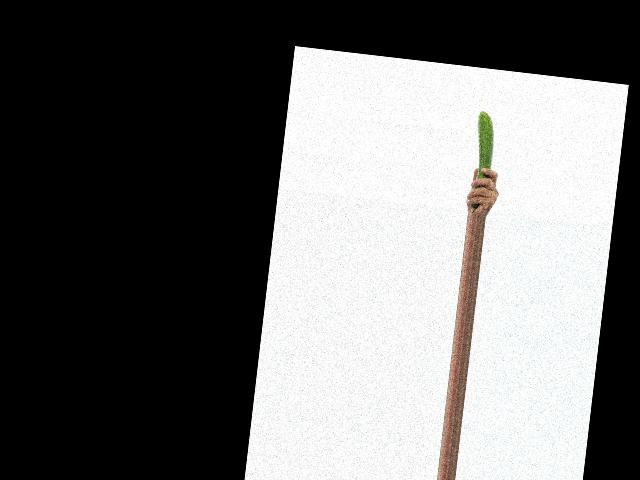cucumber: (467, 109, 497, 213)
